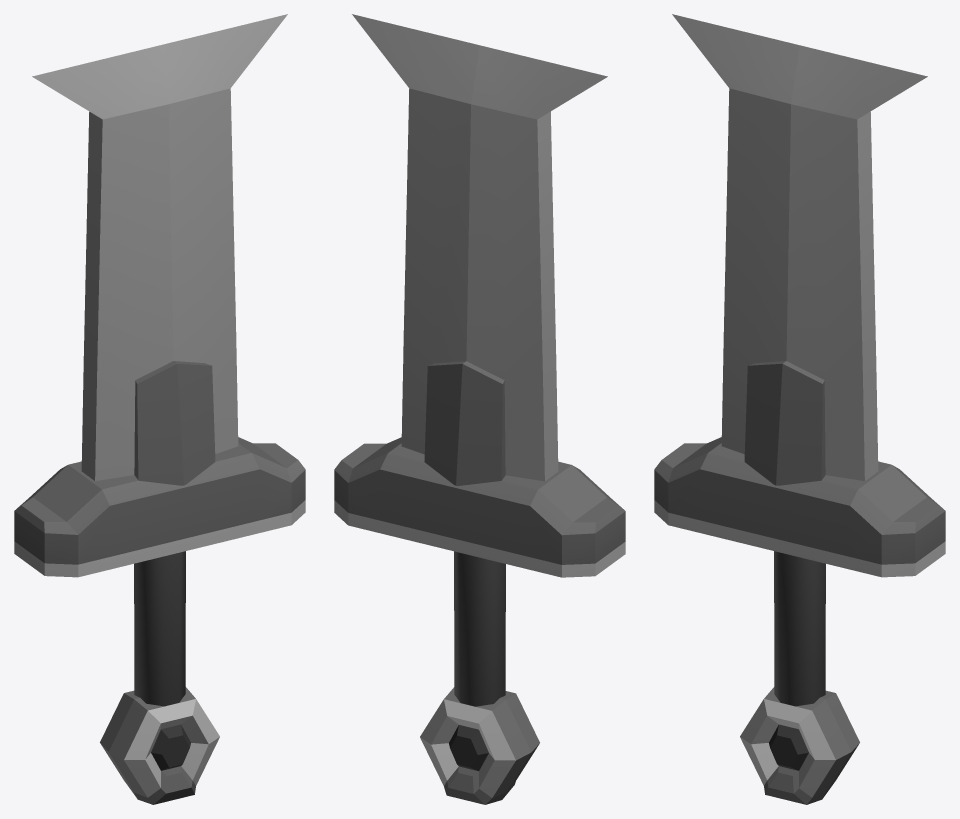
File: Sword_LHand_19.fbx
3 renders of one model, left to right at view 1: azimuth 30°, elevation 25°; view 2: azimuth 150°, elevation 25°; view 3: azimuth 330°, elevation 25°, orthographic.
Parts seen in each view (by area): view 1: Sword_LHand_19; view 2: Sword_LHand_19; view 3: Sword_LHand_19.
Boxes of the visible parts, x1,y1,x2,y2 form: Sword_LHand_19: (14, 14, 305, 804); Sword_LHand_19: (334, 14, 625, 804); Sword_LHand_19: (654, 14, 945, 804).
Bounding box in the file's own units: 30.23 × 82.88 × 10.
